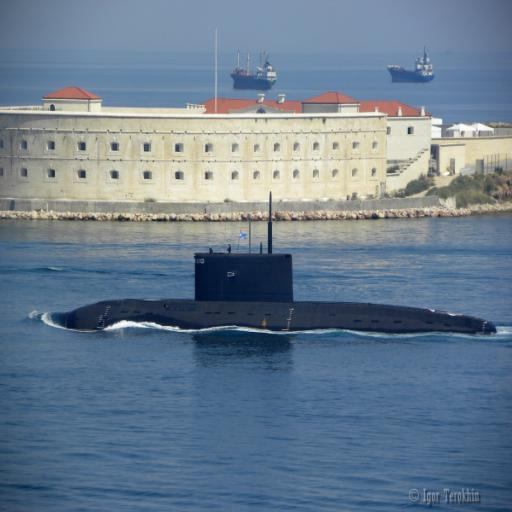submarine: (52, 194, 500, 335)
